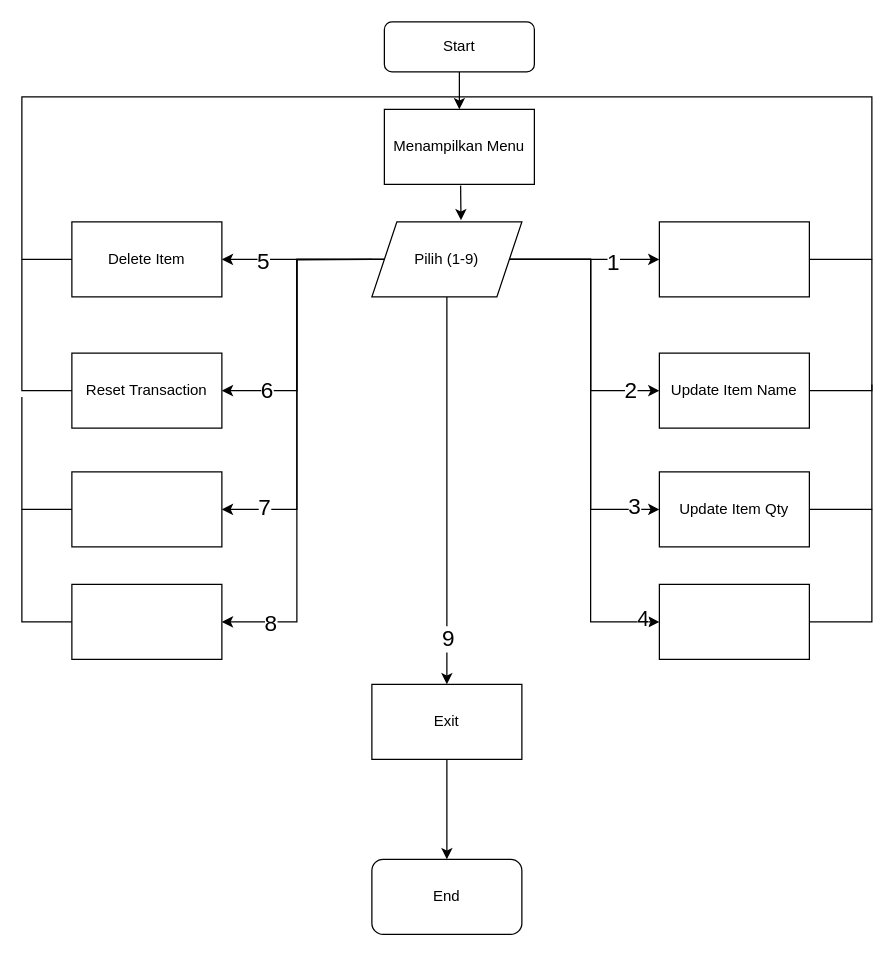
This 895x956 diagram has some shape labels left out. The shapes that lost their labels are listed below. From the top down, each one's centre as x and y in pixels, then its label:
point (733, 259): Add Item
point (146, 509): Check Order
point (146, 621): Total Price
point (733, 621): Update Item Price
